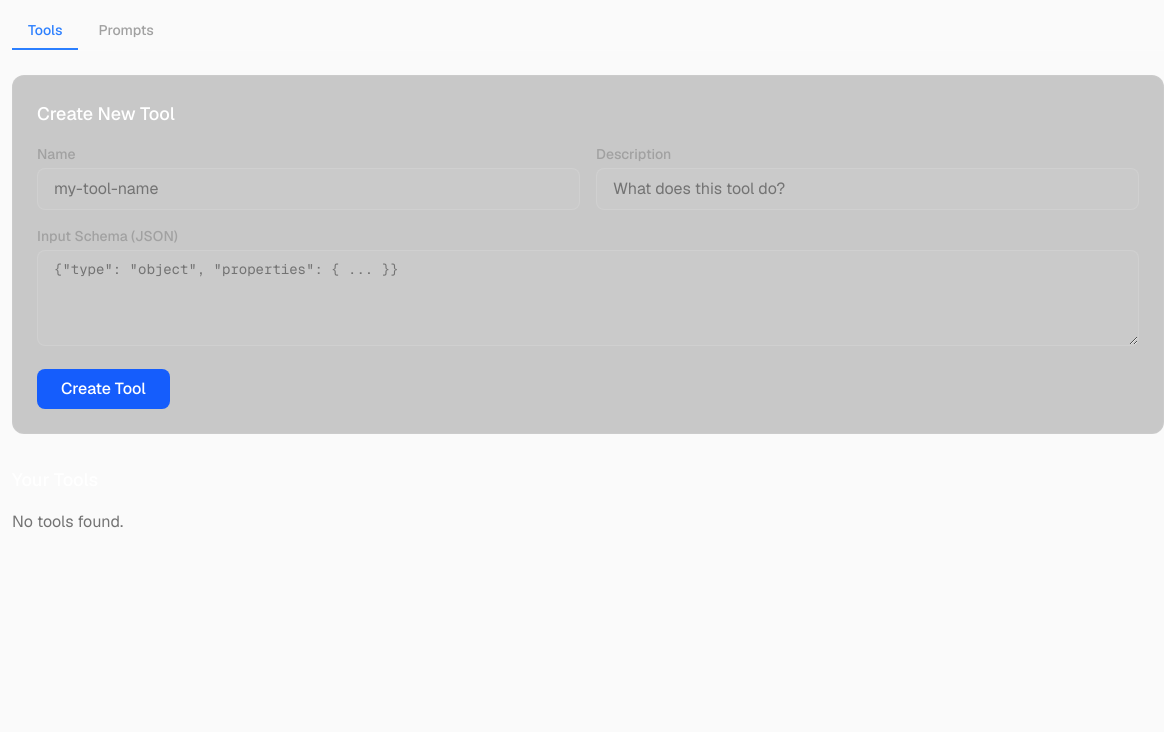
McpDashboardClient › creates a new prompt
The image size is (1164, 732).
Click the button "Prompts" at (126, 31), box [82,12,170,50]
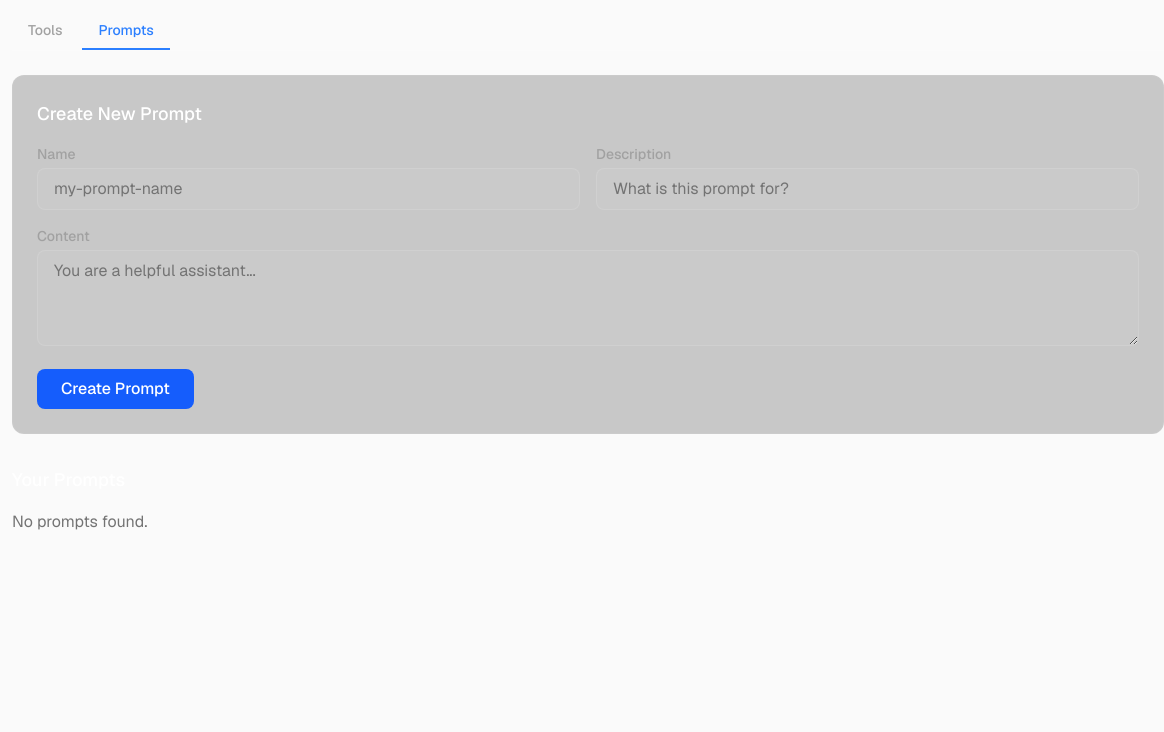
Type "New Prompt" into the field with placeholder "my-prompt-name" at (308, 189), box [37,168,580,210]
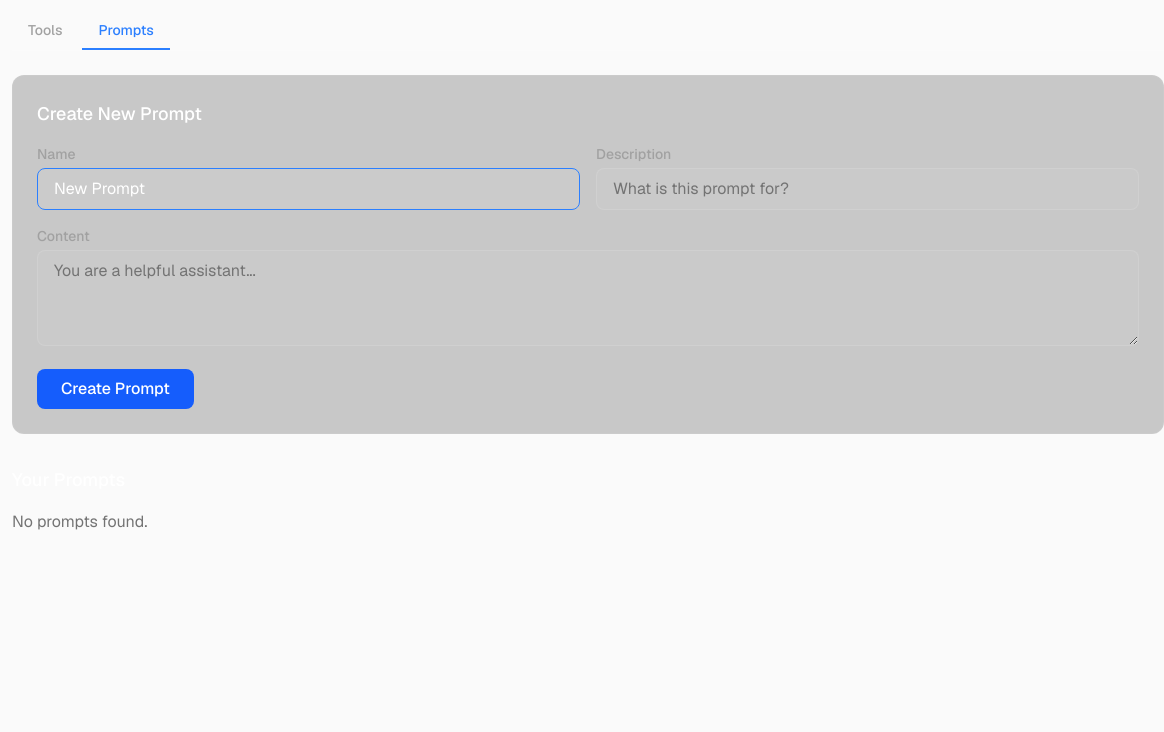
Type "Desc" into the field with placeholder "What is this prompt for?" at (868, 189), box [596,168,1139,210]
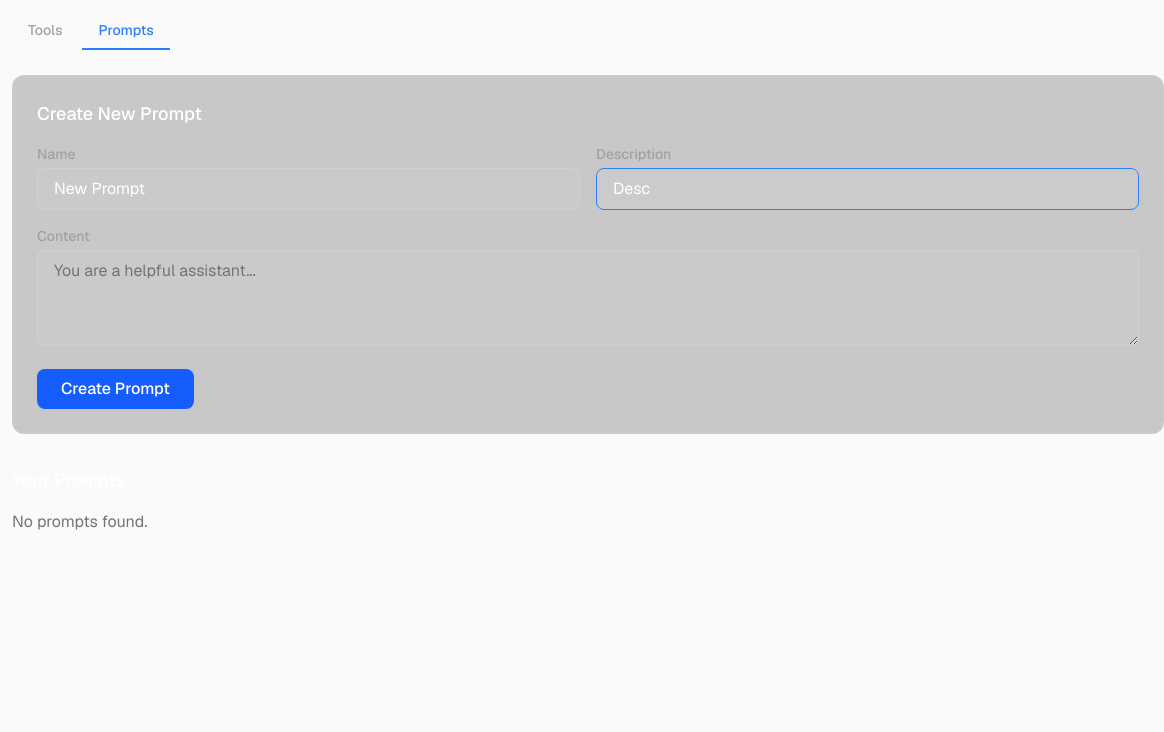
Type "Content" into the text box with placeholder "You are a helpful assistant..." at (588, 298), box [37,250,1139,346]
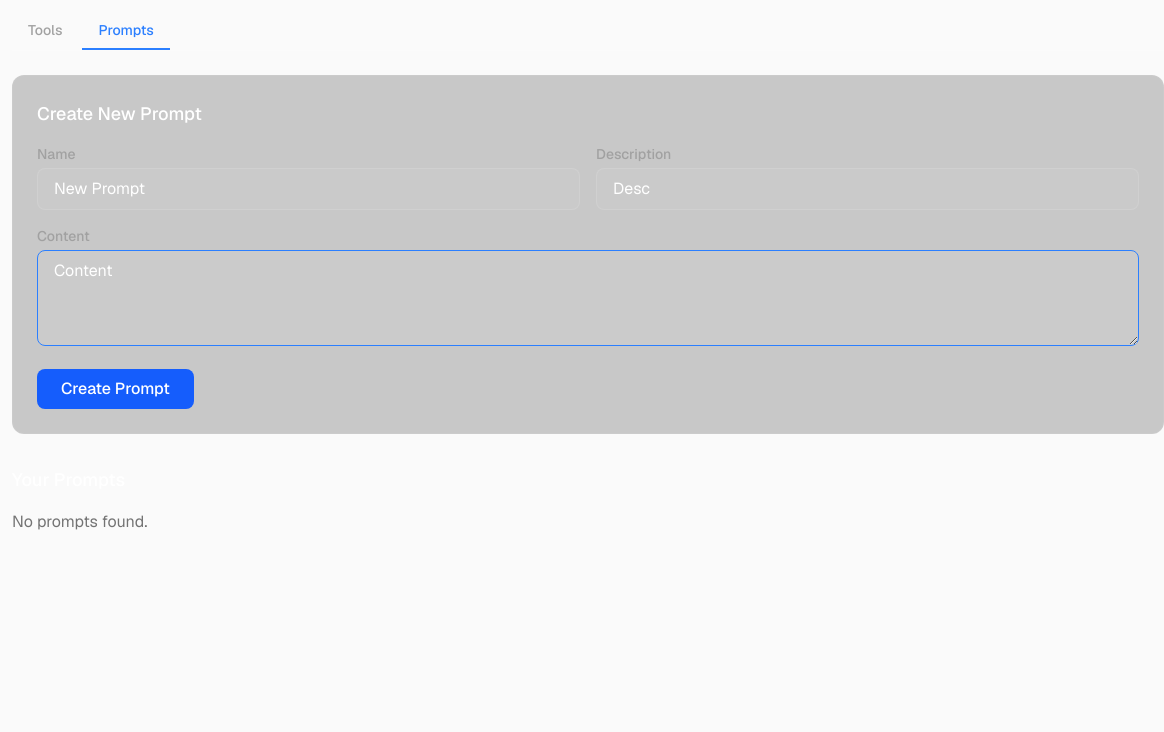
Click the button "Create Prompt" at (115, 389), box [37,369,194,409]
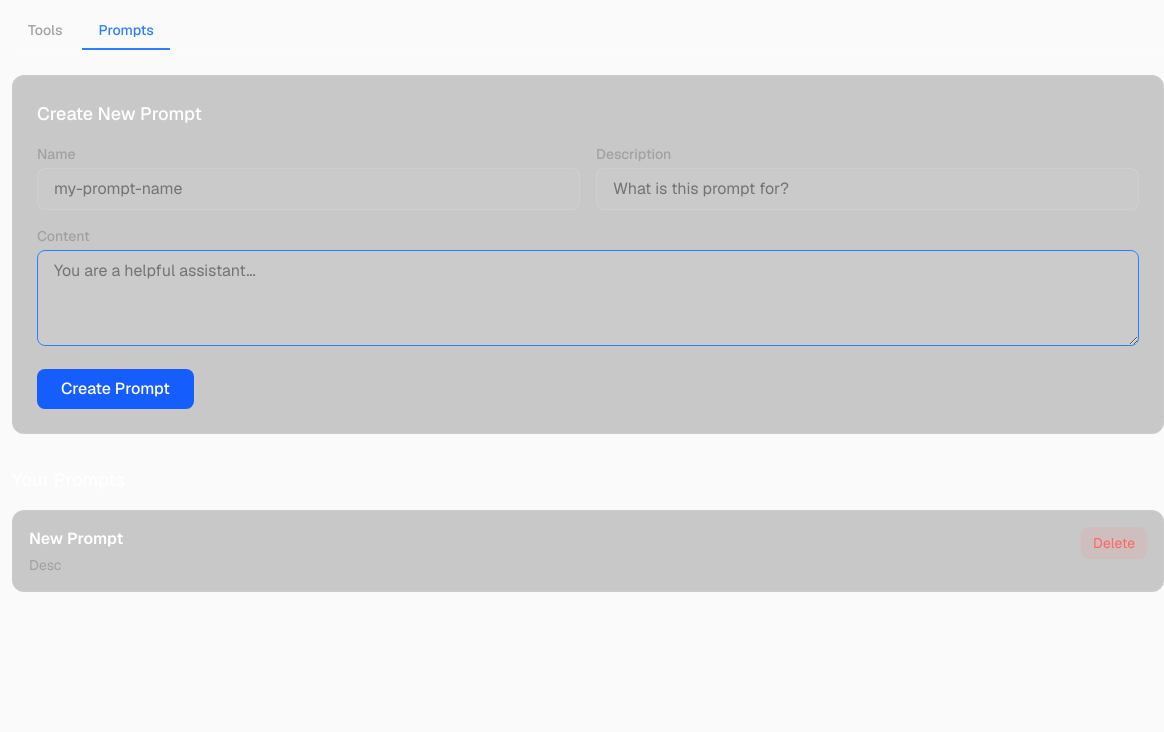
Result: the heading "New Prompt" is shown at [29,527,123,551]
